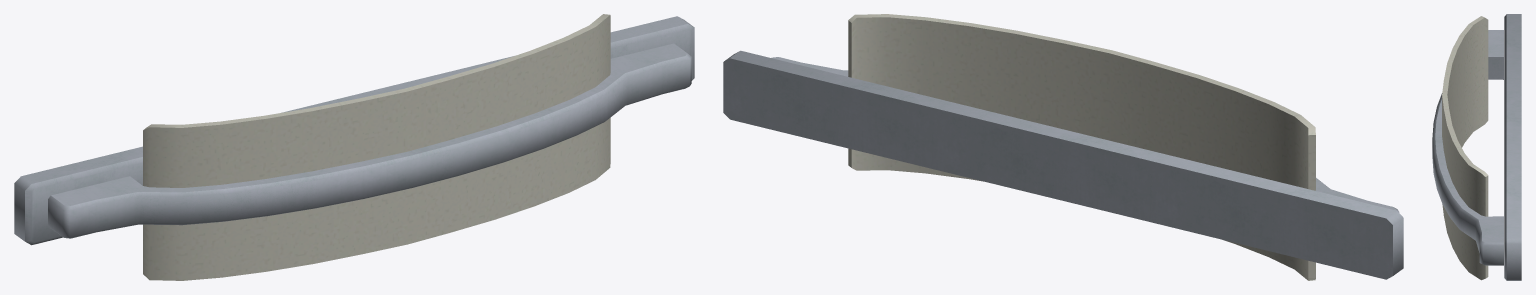
File: p6_light_modern_sconce_off_lod0.glb
3 views of the same model, side by side, from view 1: azimuth 30°, elevation 25°; view 2: azimuth 150°, elevation 25°; view 3: azimuth 270°, elevation 25° (orthographic). The views are drawn at different scales.
Visible parts, largest first — view 1: surf1, surf0; view 2: surf0, surf1; view 3: surf0, surf1.
Part boxes in pixels (x1,y1,x2,y2): surf1: [143, 14, 610, 280]; surf0: [14, 16, 694, 245]; surf0: [723, 50, 1403, 279]; surf1: [848, 14, 1315, 280]; surf0: [1432, 14, 1521, 280]; surf1: [1442, 16, 1488, 280].
Size of the model in its own units: 55.18 by 12.05 by 9.1.
